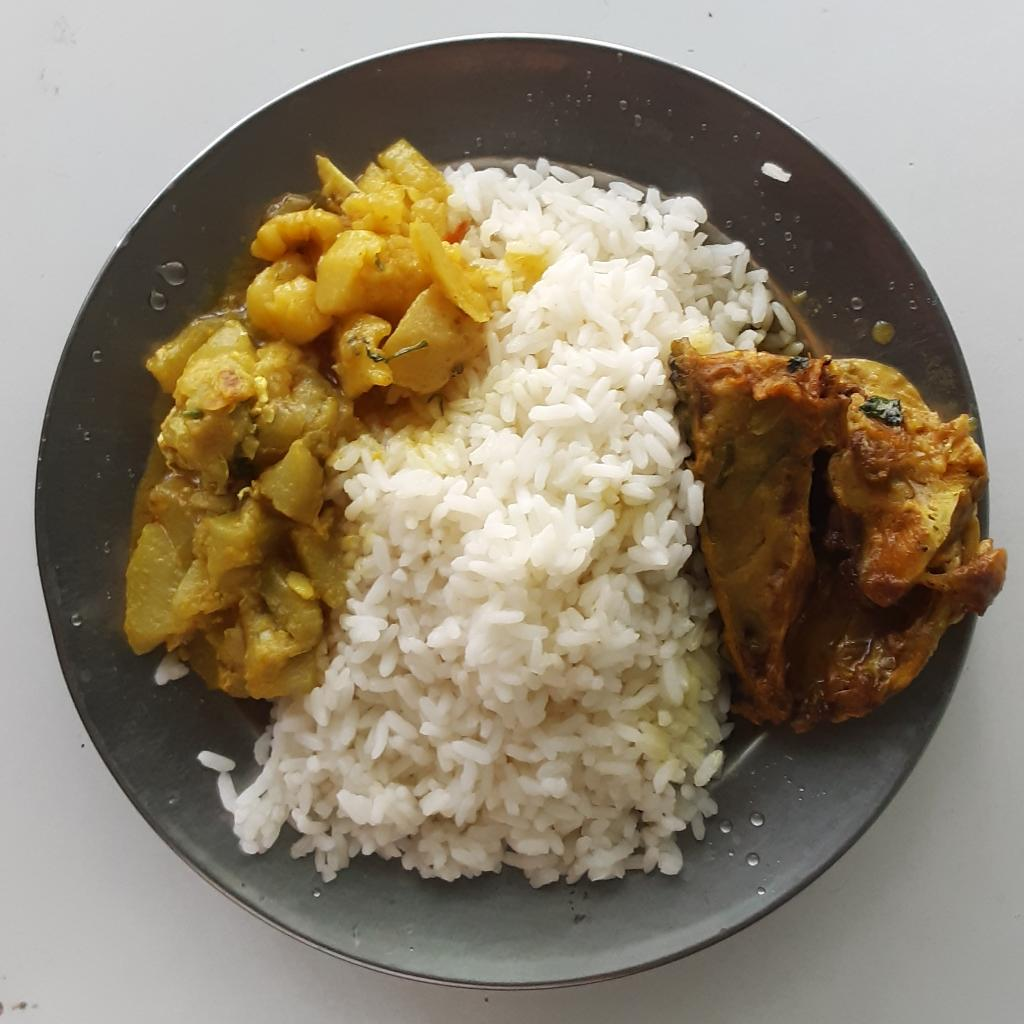fish: (668, 340, 1010, 740)
lau: (124, 137, 493, 703)
rice: (199, 155, 805, 884)
